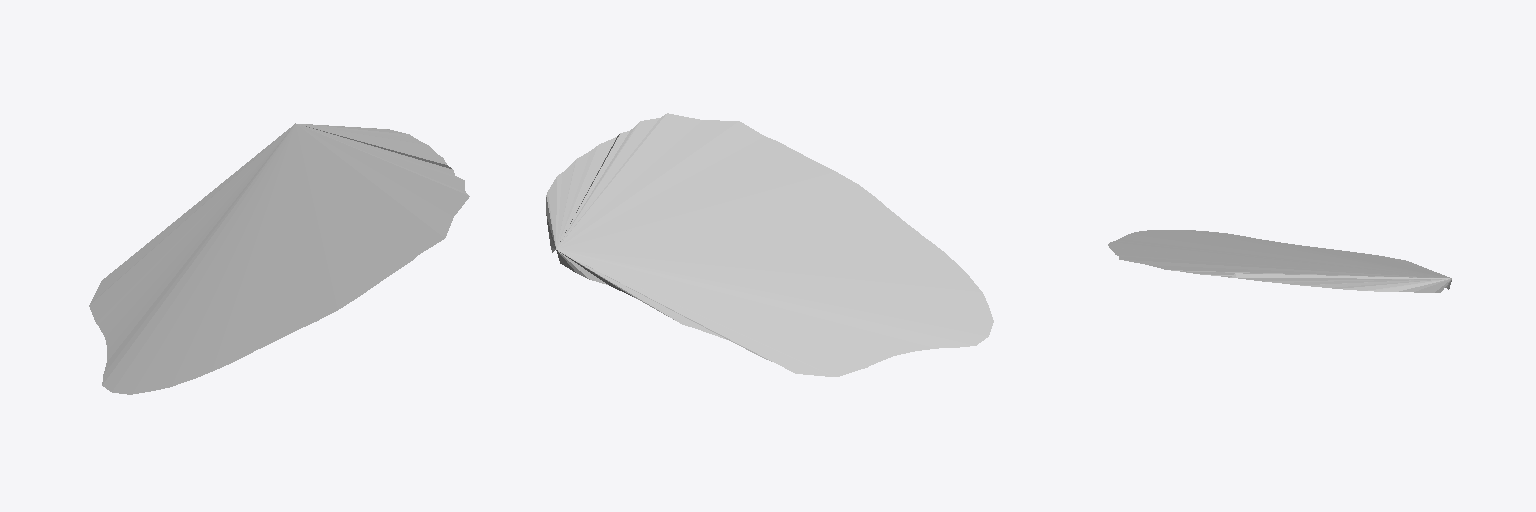
Rendered from articulation_bras_droit.obj.
The picture shows the model from 3 angles: view 1: azimuth 30°, elevation 25°; view 2: azimuth 150°, elevation 25°; view 3: azimuth 270°, elevation 25°; orthographic projection.
Parts seen in each view (by area): view 1: 15548_French_Horseman_v1.001; view 2: 15548_French_Horseman_v1.001; view 3: 15548_French_Horseman_v1.001.
Boxes of the visible parts, <box> form: 15548_French_Horseman_v1.001: <box>89,123,469,394</box>; 15548_French_Horseman_v1.001: <box>546,113,993,376</box>; 15548_French_Horseman_v1.001: <box>1108,230,1451,292</box>.
Size of the model in its own units: 0.5392 by 0.1849 by 0.4407.